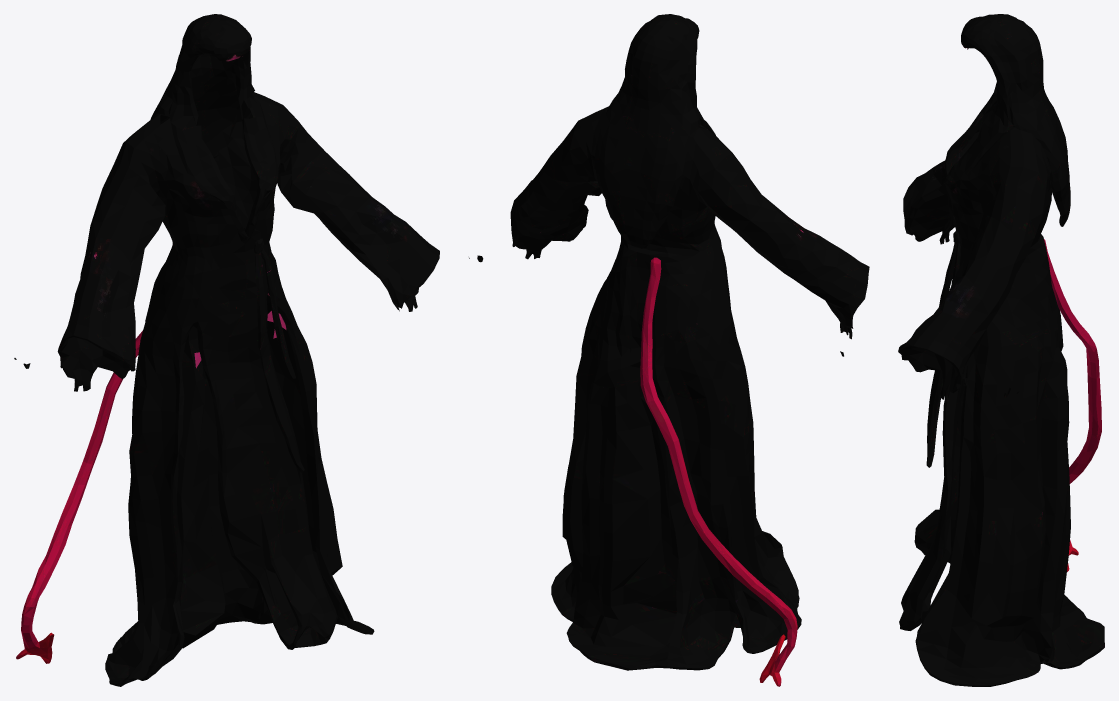
File: ewm_t2succubus_outfit.glb
3 renders of one model, left to right at view 1: azimuth 30°, elevation 25°; view 2: azimuth 150°, elevation 25°; view 3: azimuth 270°, elevation 25°, orthographic. The views are drawn at different scales.
Parts seen in each view (by area): view 1: ewm_t2succubus_outfit; view 2: ewm_t2succubus_outfit; view 3: ewm_t2succubus_outfit.
Boxes of the visible parts, x1=… form: ewm_t2succubus_outfit: x1=14, y1=14, x2=439, y2=686; ewm_t2succubus_outfit: x1=469, y1=14, x2=869, y2=686; ewm_t2succubus_outfit: x1=898, y1=14, x2=1104, y2=686.
Size of the model in its own units: 1.22 by 1.9 by 0.5729.
Materials: 1 (1 with a texture image).
